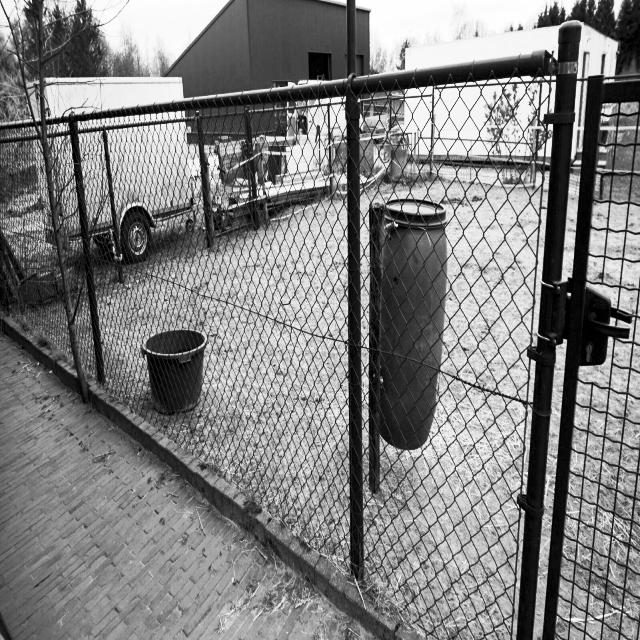fences: (364, 87, 640, 605), (122, 106, 337, 542), (6, 128, 100, 362)
